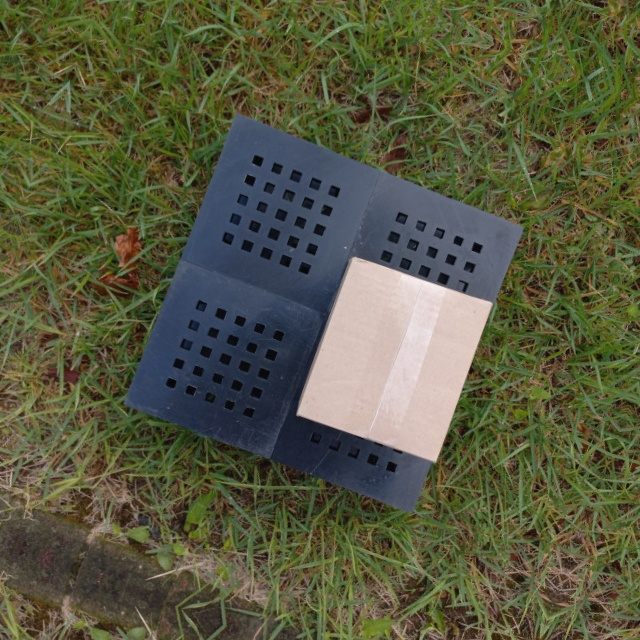box: (292, 254, 498, 464)
pallet: (116, 92, 553, 535)
